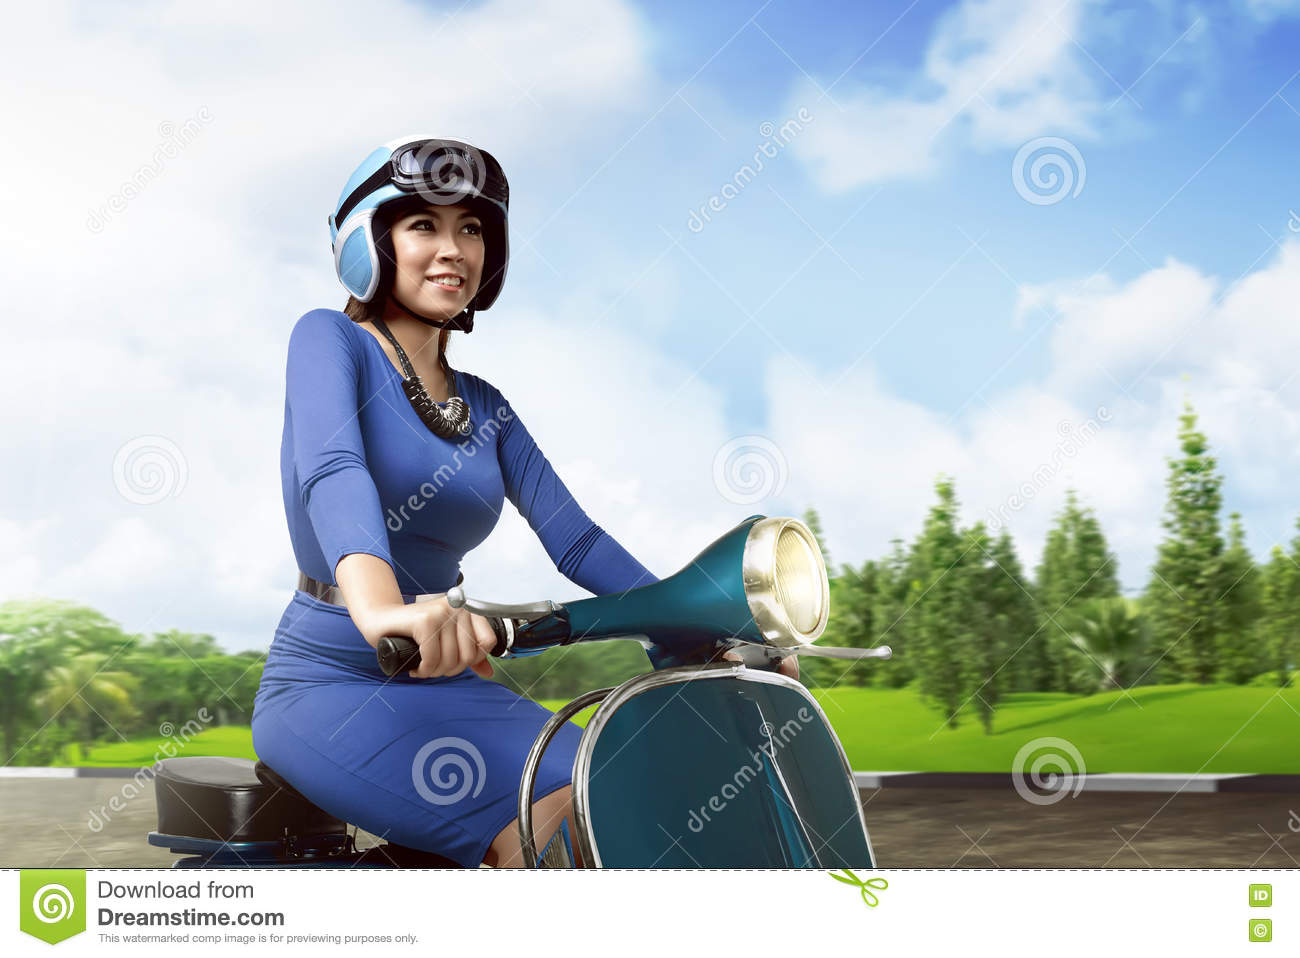helmet: (320, 139, 515, 277)
